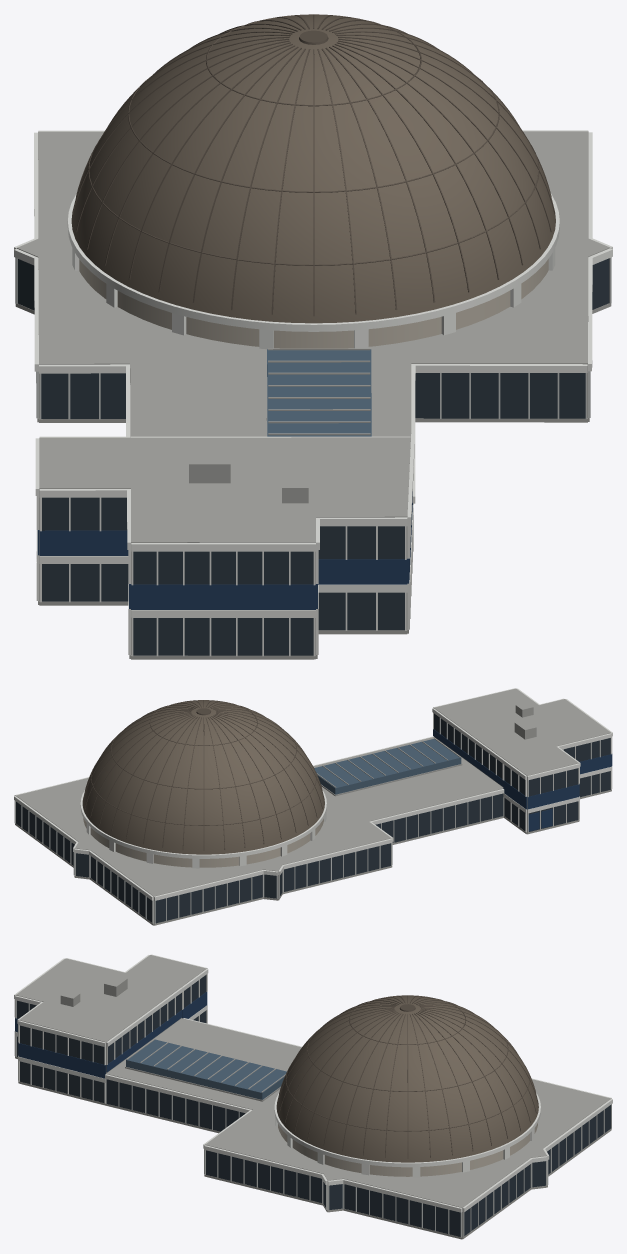
The model's file is artis-planetarium.glb.
The picture shows the model from 3 angles, top to bottom: view 1: azimuth 30°, elevation 25°; view 2: azimuth 150°, elevation 25°; view 3: azimuth 270°, elevation 25°; orthographic projection. The views are drawn at different scales.
Visible parts, largest first — view 1: artis-planetarium; view 2: artis-planetarium; view 3: artis-planetarium.
Boxes of the visible parts, x1,y1,x2,y2 form: artis-planetarium: (14, 14, 612, 659); artis-planetarium: (14, 688, 612, 925); artis-planetarium: (14, 954, 612, 1239).
Bounding box in the file's own units: 51.37 × 15.69 × 58.37.
